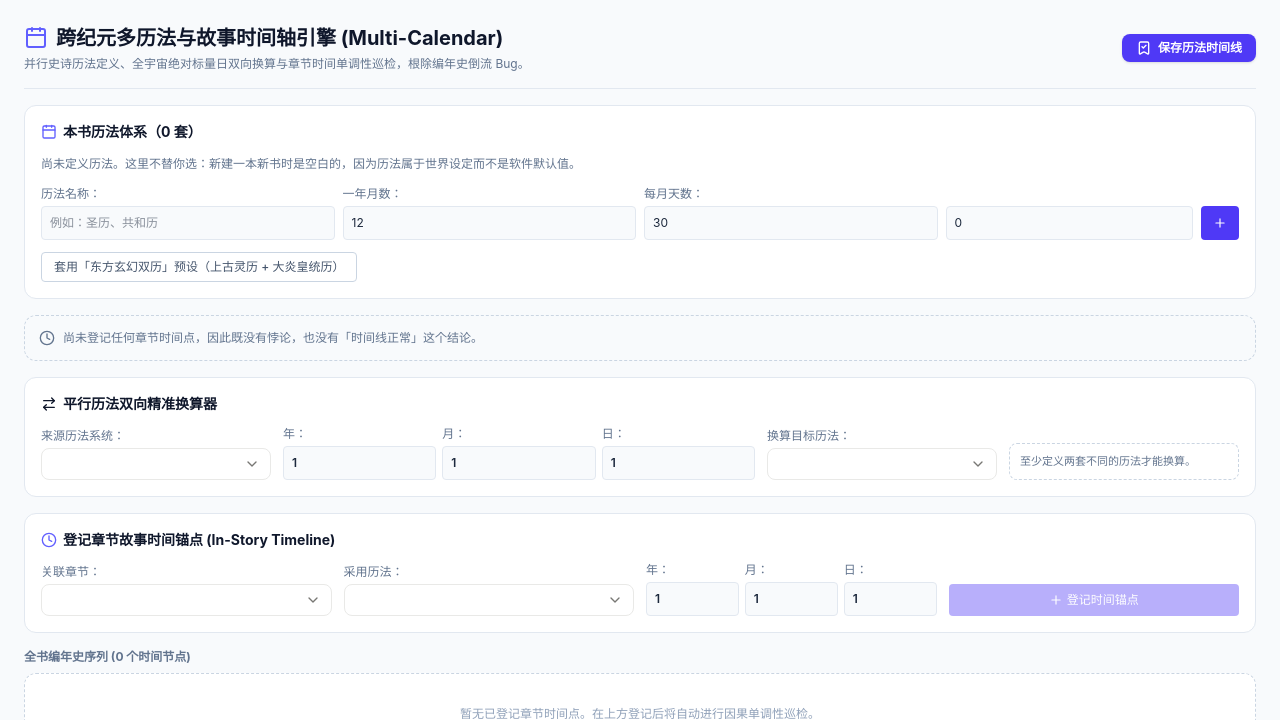
Test: MultiCalendar Components › starts with no calendar at all instead of the built-in cultivation era (P2.4)
expect the text "本书历法体系（0 套）" is shown: met, box [41,123,202,140]
expect the text "尚未定义历法。这里不替你选：新建一本新书时是空白的，因为历法属于世界设定而不是软件默认值。" is shown: met, box [41,156,581,171]
Click the button "套用「东方玄幻双历」预设（上古灵历 + 大炎皇统历）" at (199, 266), box [41,252,357,282]
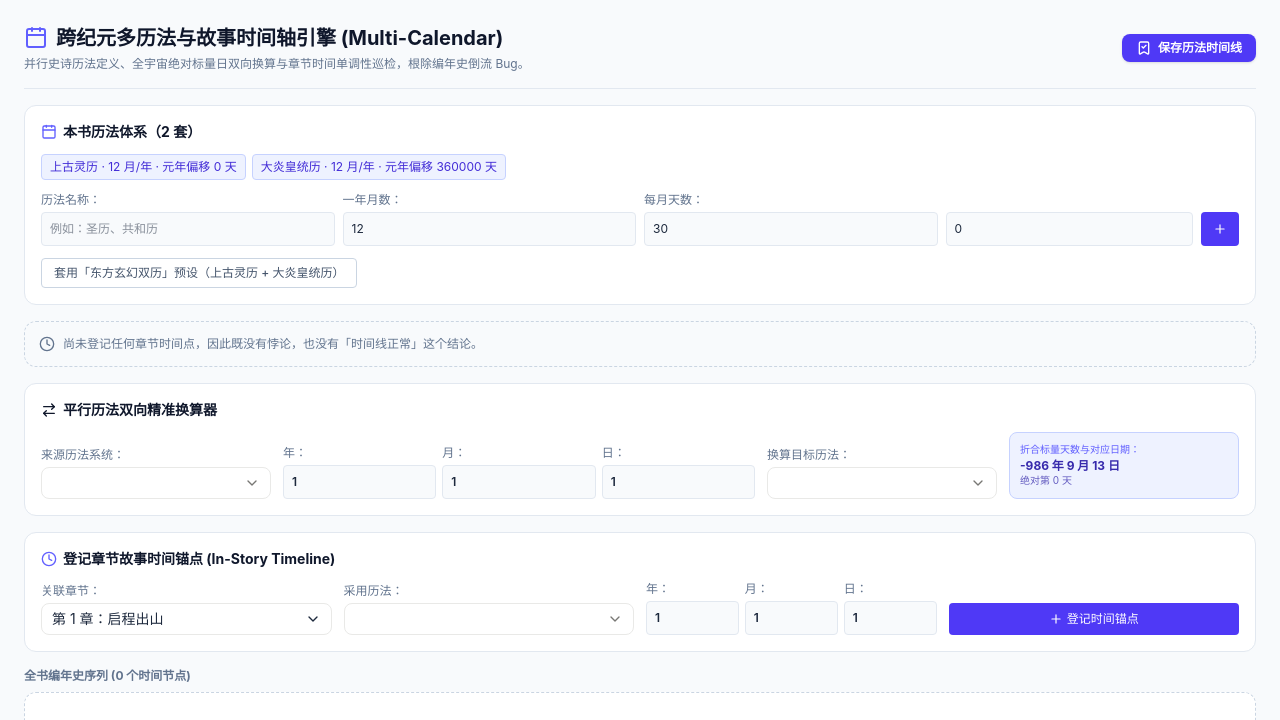
expect the text "上古灵历 · 12 月/年 · 元年偏移 0 天" is shown: met, box [41,154,246,180]
expect the text "本书历法体系（2 套）" is shown: met, box [41,123,201,140]
